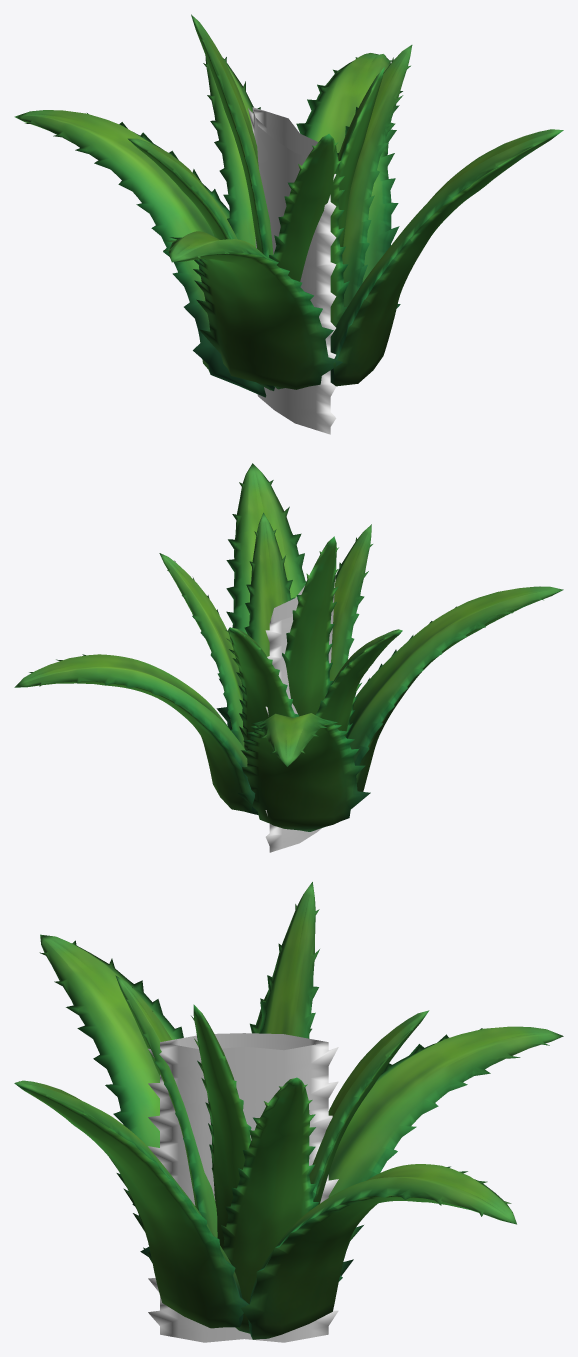
The model's file is ALOE 1.fbx.
3 renders of one model, top to bottom at view 1: azimuth 30°, elevation 25°; view 2: azimuth 150°, elevation 25°; view 3: azimuth 270°, elevation 25°, orthographic. The views are drawn at different scales.
Visible parts, largest first — view 1: AloeLıf.001, AloeLıf.004, AloeLıf.002, AloeLıf, AloeLıf.006, AloeLıf.003, AloeLıf.008, AloeLıf.005, AloeLıf.007, AloeLıf.010, AloeLıf.009; view 2: AloeLıf.002, AloeLıf.003, AloeLıf.001, AloeLıf.005, AloeLıf.004, AloeLıf.007, AloeLıf.008, AloeLıf.009, AloeLıf.006, AloeLıf.010, AloeLıf; view 3: AloeLıf, AloeLıf.003, AloeLıf.004, AloeLıf.002, AloeLıf.008, AloeLıf.001, AloeLıf.009, AloeLıf.005, AloeLıf.007, AloeLıf.006.
Boxes of the visible parts, x1,y1,x2,y2 form: AloeLıf.001: (163,231,342,389); AloeLıf.004: (330,129,563,386); AloeLıf.002: (14,110,266,397); AloeLıf: (248,107,336,434); AloeLıf.006: (269,134,349,389); AloeLıf.003: (296,53,402,308); AloeLıf.008: (337,45,412,307); AloeLıf.005: (191,14,273,257); AloeLıf.007: (203,55,260,247); AloeLıf.010: (128,138,274,390); AloeLıf.009: (338,67,384,257); AloeLıf.002: (238,713,370,831); AloeLıf.003: (14,654,258,814); AloeLıf.001: (347,586,563,791); AloeLıf.005: (282,536,338,716); AloeLıf.004: (216,463,306,730); AloeLıf.007: (225,627,298,750); AloeLıf.008: (159,553,244,748); AloeLıf.009: (244,512,294,656); AloeLıf.006: (329,524,372,680); AloeLıf.010: (316,629,402,737); AloeLıf: (265,576,335,852); AloeLıf: (148,1033,338,1342); AloeLıf.003: (241,1164,516,1339); AloeLıf.004: (14,1080,248,1328); AloeLıf.002: (328,1026,563,1281); AloeLıf.008: (221,1077,319,1333); AloeLıf.001: (39,934,183,1256); AloeLıf.009: (191,1004,251,1249); AloeLıf.005: (259,882,319,1038); AloeLıf.007: (309,1010,429,1204); AloeLıf.006: (115,975,217,1237).
Bounding box in the file's own units: 636 × 546 × 653.
